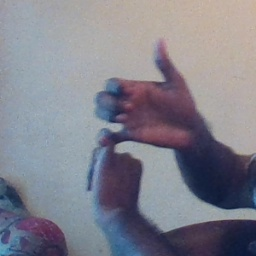S: (77, 37, 198, 202)
